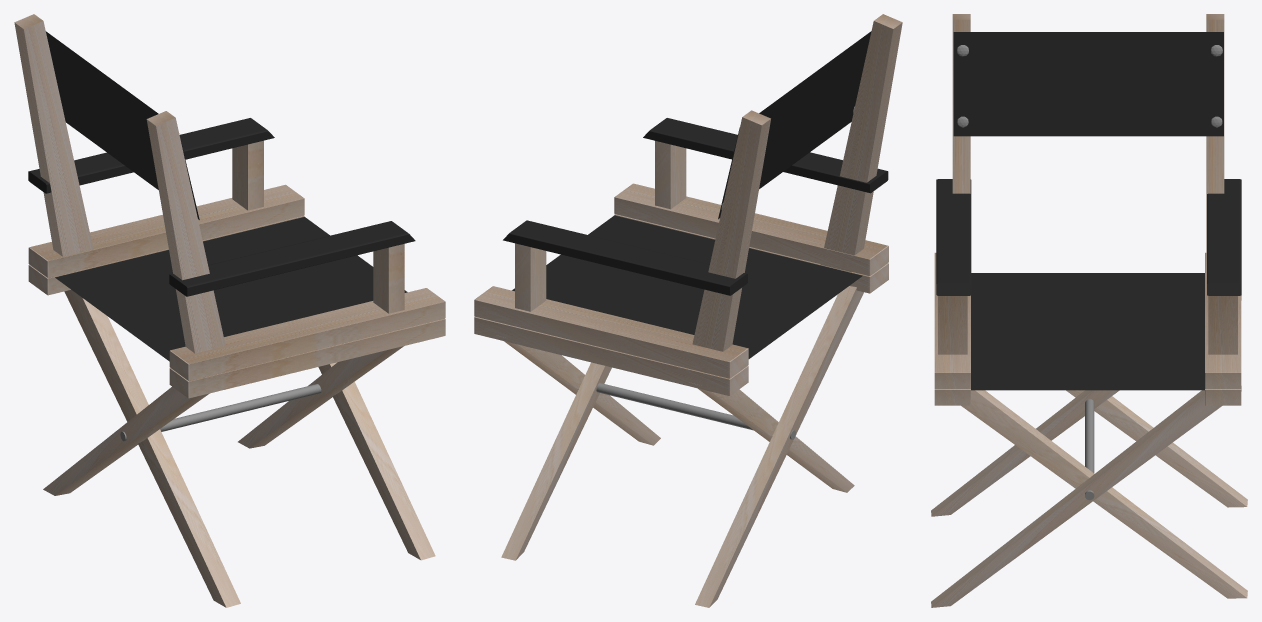
Rendered from chair.glb.
3 views of the same model, side by side, from view 1: azimuth 30°, elevation 25°; view 2: azimuth 150°, elevation 25°; view 3: azimuth 270°, elevation 25° (orthographic). The views are drawn at different scales.
Parts seen in each view (by area): view 1: Plane.001, Cube.001, Cube.015, Cube.007, Cube, Plane, Cube.008, Cube.006, Cube.002, Cube.017, Cube.014, Cube.013 (+5 smaller); view 2: Plane.001, Cube.008, Cube, Cube.007, Plane, Cube.014, Cube.001, Cube.013, Cube.009, Cube.016, Cube.006, Cube.015 (+5 smaller); view 3: Plane, Plane.001, Cube.016, Cube.017, Cube.006, Cube.013, Cube.015, Cube.014, Cube.001, Cube.008, Cube.003, Cube.010 (+5 smaller).
Part boxes in pixels (x1,y1,x2,y2): Plane.001: (55, 217, 407, 361); Cube.001: (169, 288, 445, 380); Cube.015: (64, 289, 240, 607); Cube.007: (14, 14, 96, 272); Cube: (146, 111, 225, 353); Plane: (46, 31, 199, 219); Cube.008: (28, 184, 304, 277); Cube.006: (169, 221, 415, 296); Cube.002: (169, 318, 445, 398); Cube.017: (318, 362, 435, 560); Cube.014: (43, 386, 209, 495); Cube.013: (28, 118, 274, 193); Plane.001: (512, 215, 862, 358); Cube.008: (474, 286, 748, 378); Cube: (820, 14, 902, 272); Cube.007: (692, 110, 770, 351); Plane: (718, 31, 871, 219); Cube.014: (695, 286, 863, 607); Cube.001: (614, 183, 888, 275); Cube.013: (503, 220, 747, 295); Cube.009: (474, 316, 748, 395); Cube.016: (501, 362, 611, 560); Cube.006: (643, 118, 888, 193); Cube.015: (692, 383, 854, 492); Plane: (953, 32, 1223, 136); Plane.001: (971, 273, 1204, 390); Cube.016: (961, 390, 1247, 598); Cube.017: (931, 386, 1241, 607); Cube.006: (936, 179, 971, 295); Cube.013: (1207, 179, 1241, 295); Cube.015: (931, 295, 1241, 516); Cube.014: (1066, 390, 1247, 507); Cube.001: (934, 252, 970, 388); Cube.008: (1205, 252, 1241, 388); Cube.003: (938, 296, 967, 354); Cube.010: (1208, 296, 1237, 354).
Bounding box in the file's own units: 0.5779 × 0.9686 × 0.5891.
Materials: 3 (1 with a texture image).
